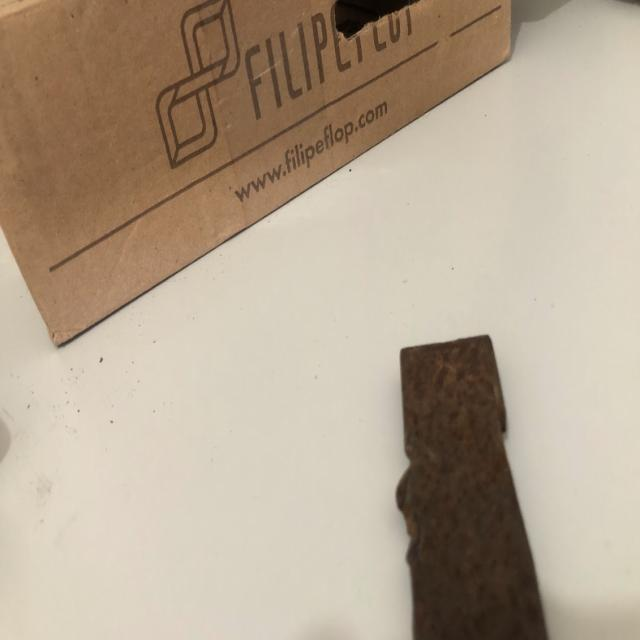Corrosion: (394, 334, 549, 640)
